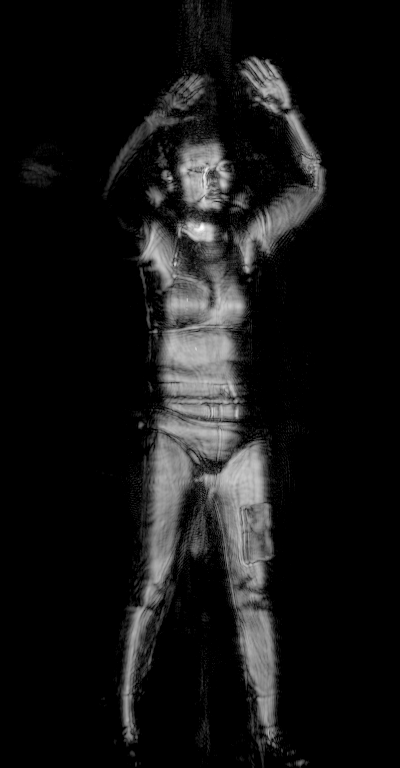head: (160, 133, 240, 218)
others: (233, 500, 279, 567), (294, 148, 325, 196)
person: (101, 55, 329, 768)
